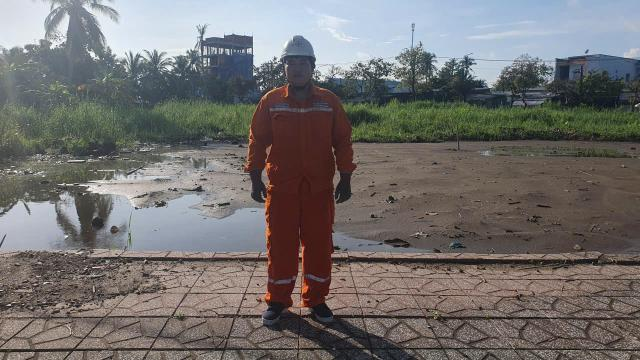gloves: (245, 167, 275, 214), (331, 171, 360, 206)
helmet: (283, 34, 328, 69)
shoes: (255, 292, 303, 324), (303, 294, 336, 323)
